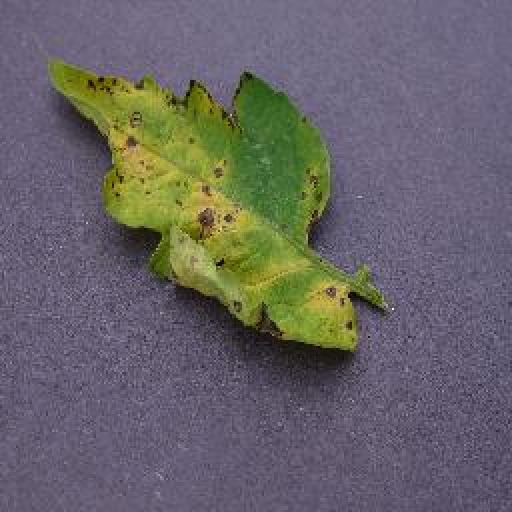disease_tomato: (46, 56, 362, 356)
